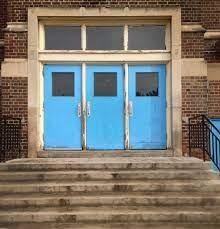Bench: (0, 153, 218, 226)
